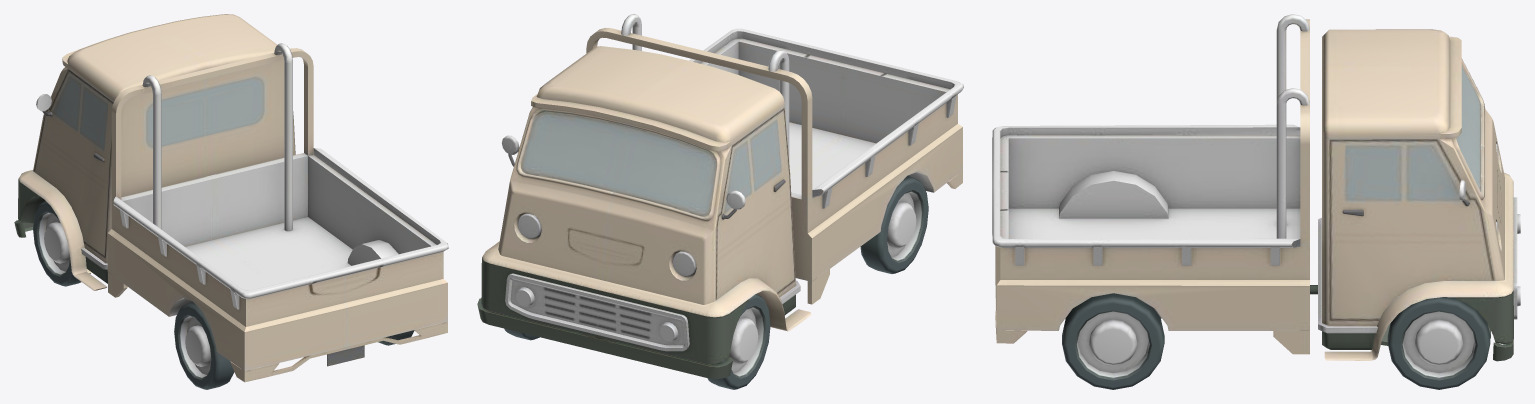
The model's file is kei_truck_vintage.glb.
3 renders of one model, left to right at view 1: azimuth 30°, elevation 25°; view 2: azimuth 150°, elevation 25°; view 3: azimuth 270°, elevation 25°, orthographic. The views are drawn at different scales.
Visible parts, largest first — view 1: body, wheel_RL, wheel_FL; view 2: body, wheel_RL, wheel_FL; view 3: body, wheel_FR, wheel_RR.
Boxes of the visible parts, left/top/right/bottom form: body: left=14, top=14, right=448, bottom=382; wheel_RL: left=174, top=302, right=234, bottom=389; wheel_FL: left=33, top=201, right=126, bottom=297; body: left=477, top=14, right=963, bottom=378; wheel_RL: left=860, top=176, right=954, bottom=273; wheel_FL: left=707, top=269, right=829, bottom=389; body: left=992, top=14, right=1520, bottom=361; wheel_FR: left=1273, top=297, right=1490, bottom=389; wheel_RR: left=1062, top=293, right=1164, bottom=389.
Size of the model in its own units: 1.71 by 1.77 by 3.
1 material, 1 textured.
